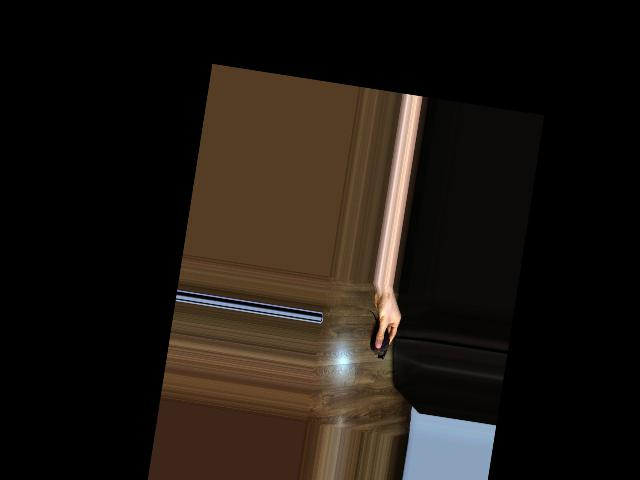beet: (361, 311, 393, 360)
